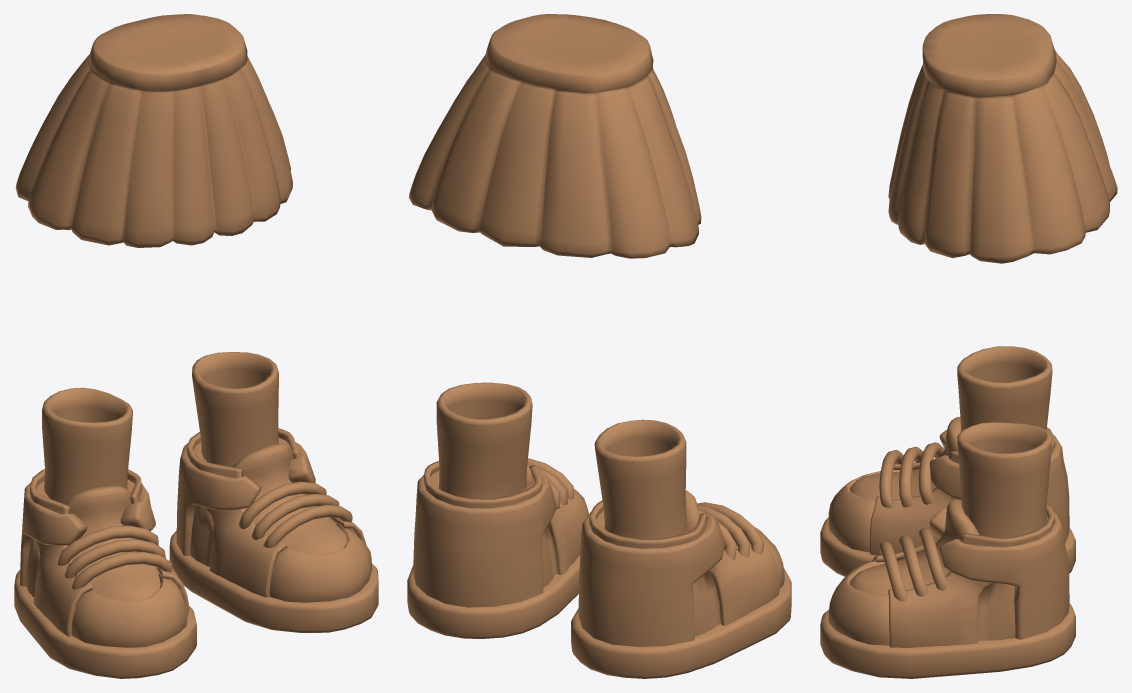
File: skirt1.fbx
3 views of the same model, side by side, from view 1: azimuth 30°, elevation 25°; view 2: azimuth 150°, elevation 25°; view 3: azimuth 270°, elevation 25° (orthographic). The views are drawn at different scales.
Parts seen in each view (by area): view 1: skirt_l; view 2: skirt_l; view 3: skirt_l.
Part boxes in pixels (left/top/right/bottom): skirt_l: left=14, top=14, right=378, bottom=678; skirt_l: left=407, top=14, right=791, bottom=678; skirt_l: left=820, top=14, right=1117, bottom=678.
Bounding box in the file's own units: 45.79 × 76.2 × 36.82.
